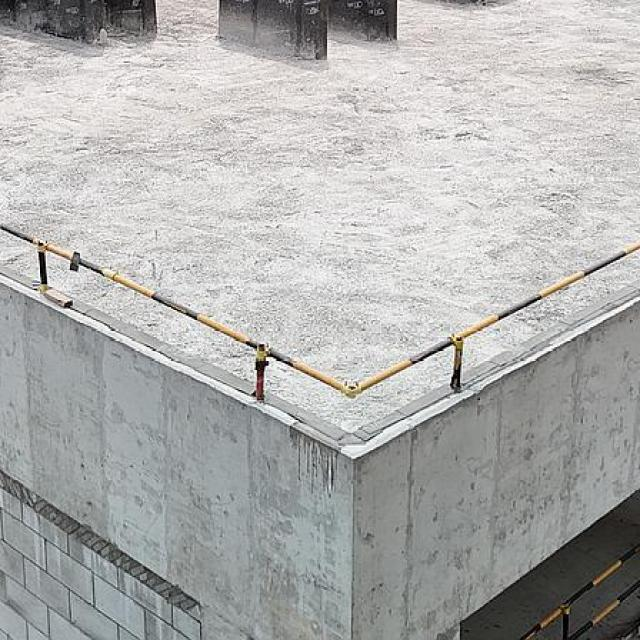edge_guardrail: (0, 218, 640, 403), (515, 541, 640, 639)
